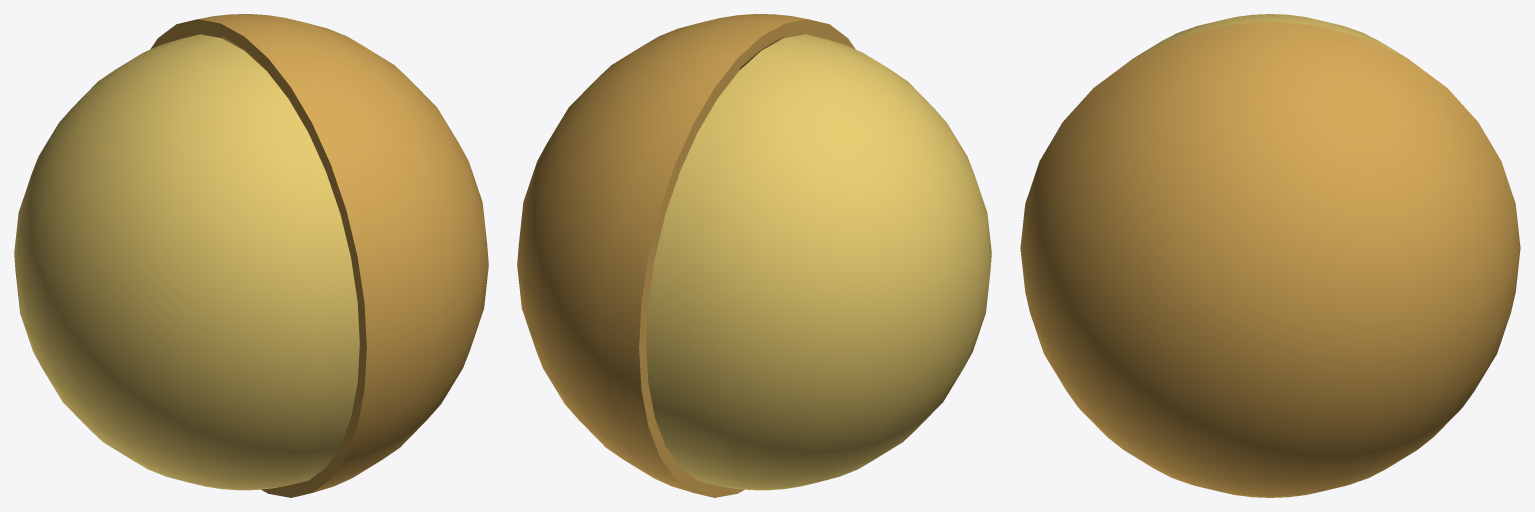
The model's file is Bola5.fbx.
The picture shows the model from 3 angles, left to right: view 1: azimuth 30°, elevation 25°; view 2: azimuth 150°, elevation 25°; view 3: azimuth 270°, elevation 25°; orthographic projection. The views are drawn at different scales.
Parts seen in each view (by area): view 1: bola3mitadoscura, bola3mitadclara; view 2: bola3mitadoscura, bola3mitadclara; view 3: bola3mitadclara, bola3mitadoscura.
Part boxes in pixels (<box>): bola3mitadoscura: <box>14,34,359,490</box>; bola3mitadclara: <box>150,14,488,497</box>; bola3mitadoscura: <box>646,34,991,490</box>; bola3mitadclara: <box>517,14,855,497</box>; bola3mitadclara: <box>1020,21,1520,497</box>; bola3mitadoscura: <box>1132,14,1408,59</box>.
Bounding box in the file's own units: 107 × 110 × 110.
